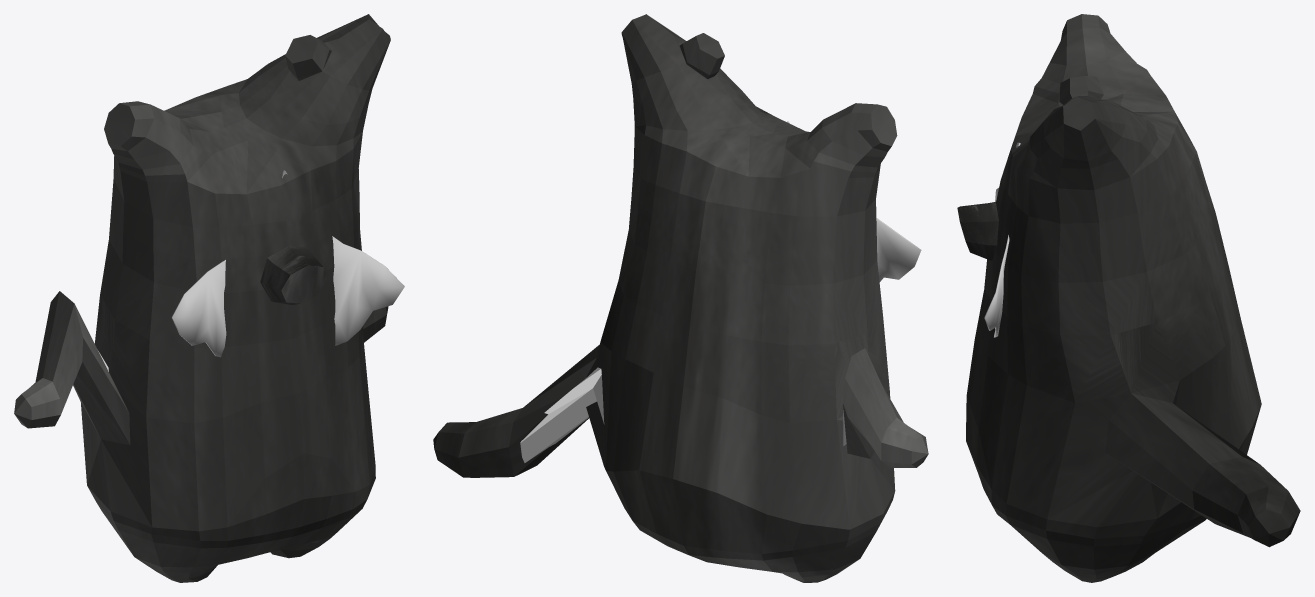
Rendered from frame_0035.obj.
The picture shows the model from 3 angles, left to right: view 1: azimuth 30°, elevation 25°; view 2: azimuth 150°, elevation 25°; view 3: azimuth 270°, elevation 25°; orthographic projection.
Parts seen in each view (by area): view 1: korok, leaf, nose; view 2: korok, leaf; view 3: korok, nose, leaf.
Part boxes in pixels (<box>): korok: <box>14,14,390,582</box>; leaf: <box>171,170,404,357</box>; nose: <box>260,245,326,304</box>; korok: <box>433,14,928,582</box>; leaf: <box>787,121,921,281</box>; korok: <box>966,14,1300,582</box>; nose: <box>957,202,998,260</box>; leaf: <box>984,142,1020,337</box>.
Bounding box in the file's own units: 1.96 × 2.24 × 1.35.
